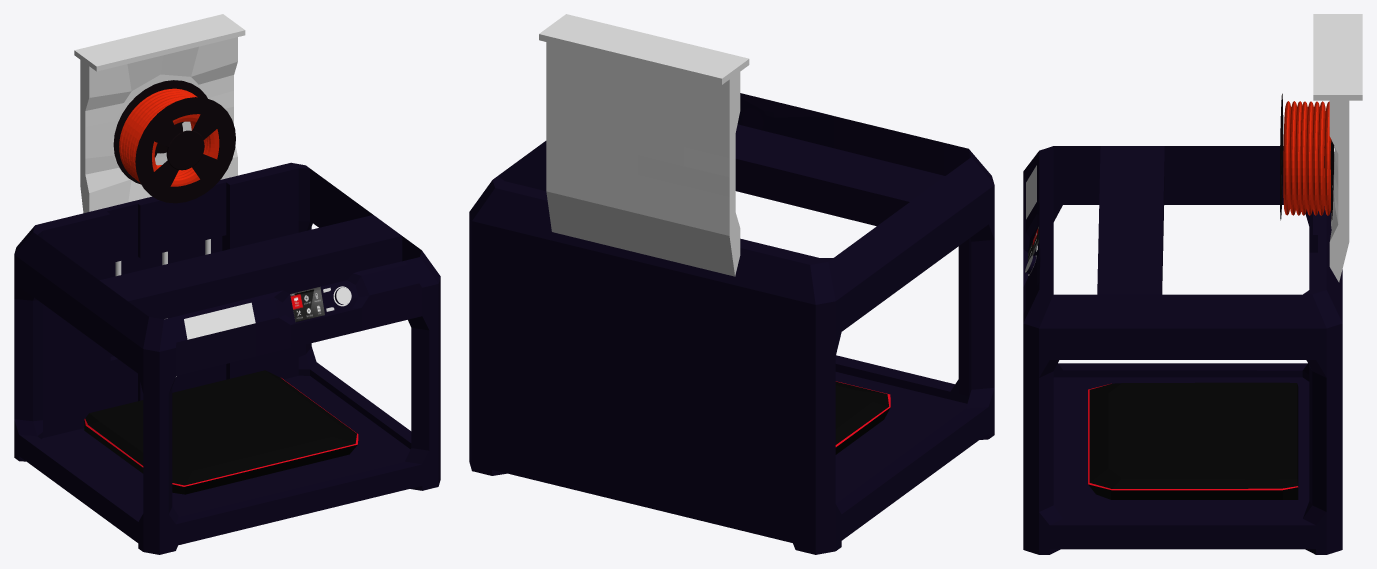
Rendered from 3D printer.fbx.
3 views of the same model, side by side, from view 1: azimuth 30°, elevation 25°; view 2: azimuth 150°, elevation 25°; view 3: azimuth 270°, elevation 25° (orthographic). The views are drawn at different scales.
Visible parts, largest first — view 1: Cylinder.005, Cube.017, Cube, kela.003, johdot.003, Cylinder.001, Cube.018, Cube.016; view 2: Cylinder.005, Cube, Cube.017; view 3: Cylinder.005, Cube.017, Cube, johdot.003, Cube.016, kela.003, Cylinder.001.
Part boxes in pixels (<box>): Cylinder.005: <box>14,162,440,554</box>; Cube.017: <box>84,370,357,494</box>; Cube: <box>74,14,245,213</box>; kela.003: <box>113,80,235,203</box>; johdot.003: <box>119,88,219,186</box>; Cylinder.001: <box>184,302,255,339</box>; Cube.018: <box>290,286,324,322</box>; Cube.016: <box>84,378,358,486</box>; Cylinder.005: <box>469,93,994,554</box>; Cube: <box>539,14,749,276</box>; Cube.017: <box>835,381,890,454</box>; Cylinder.005: <box>1023,146,1342,554</box>; Cube.017: <box>1088,382,1298,499</box>; Cube: <box>1313,14,1362,282</box>; johdot.003: <box>1283,101,1331,215</box>; Cube.016: <box>1088,383,1297,490</box>; kela.003: <box>1280,93,1334,220</box>; Cylinder.001: <box>1026,165,1036,219</box>.
Size of the model in its own units: 60 by 72.64 by 53.14.
